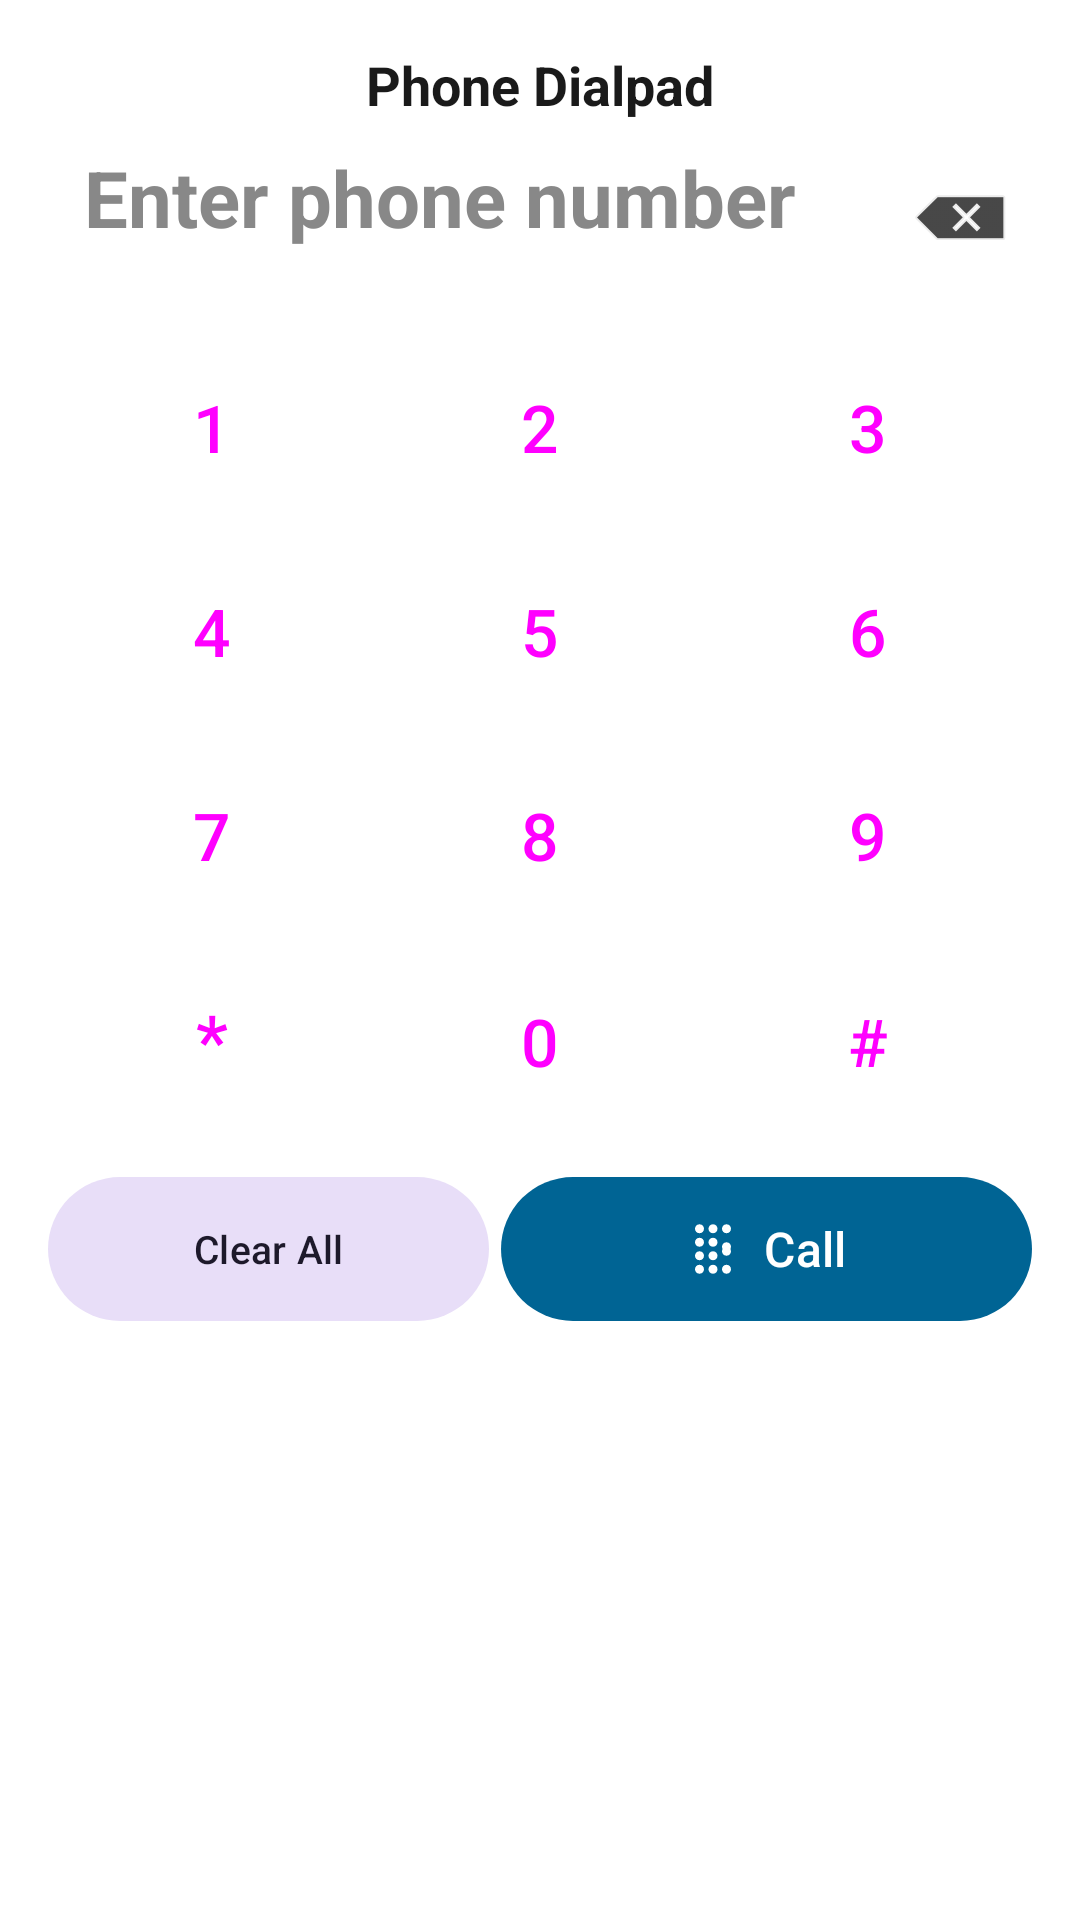

Screen size 1080px x 1920px. Icon name, then its box in pixels as (x1, y1, x2, y2):
Delete digit: (917, 197, 1004, 239)
